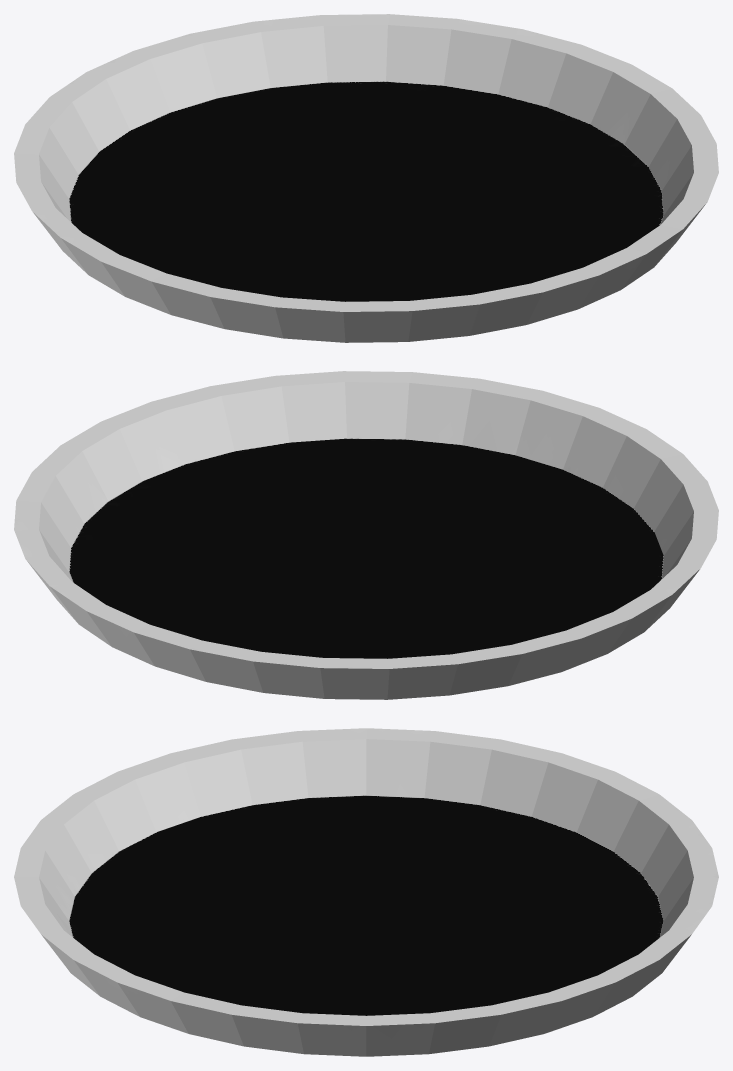
The model's file is white wall.glb.
3 renders of one model, top to bottom at view 1: azimuth 30°, elevation 25°; view 2: azimuth 150°, elevation 25°; view 3: azimuth 270°, elevation 25°, orthographic.
Parts seen in each view (by area): view 1: white wall large; view 2: white wall large; view 3: white wall large.
Boxes of the visible parts, x1,y1,x2,y2 form: white wall large: (14, 14, 718, 342); white wall large: (14, 371, 718, 699); white wall large: (14, 728, 718, 1056).
Size of the model in its own units: 94.99 by 6.6 by 94.99.
Materials: 1 (1 with a texture image).
